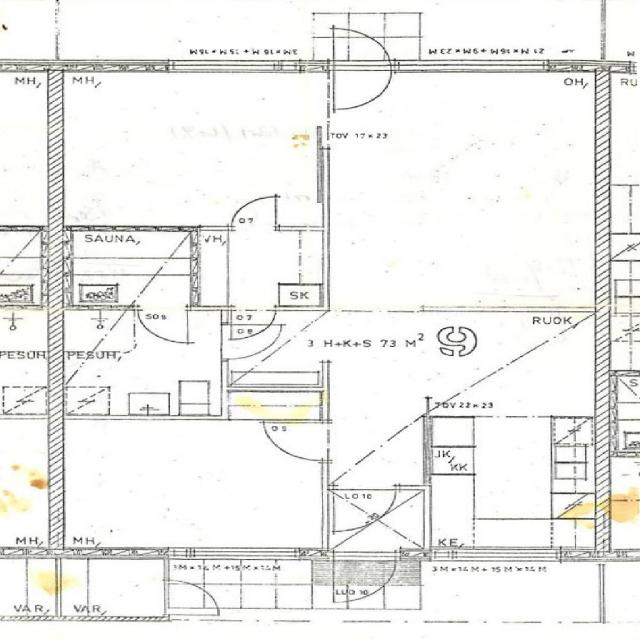door: (334, 548, 396, 600), (334, 59, 392, 110), (334, 22, 392, 72), (334, 486, 395, 530), (266, 423, 328, 460), (221, 324, 280, 359), (137, 306, 187, 343), (164, 581, 220, 614), (231, 197, 275, 230)
